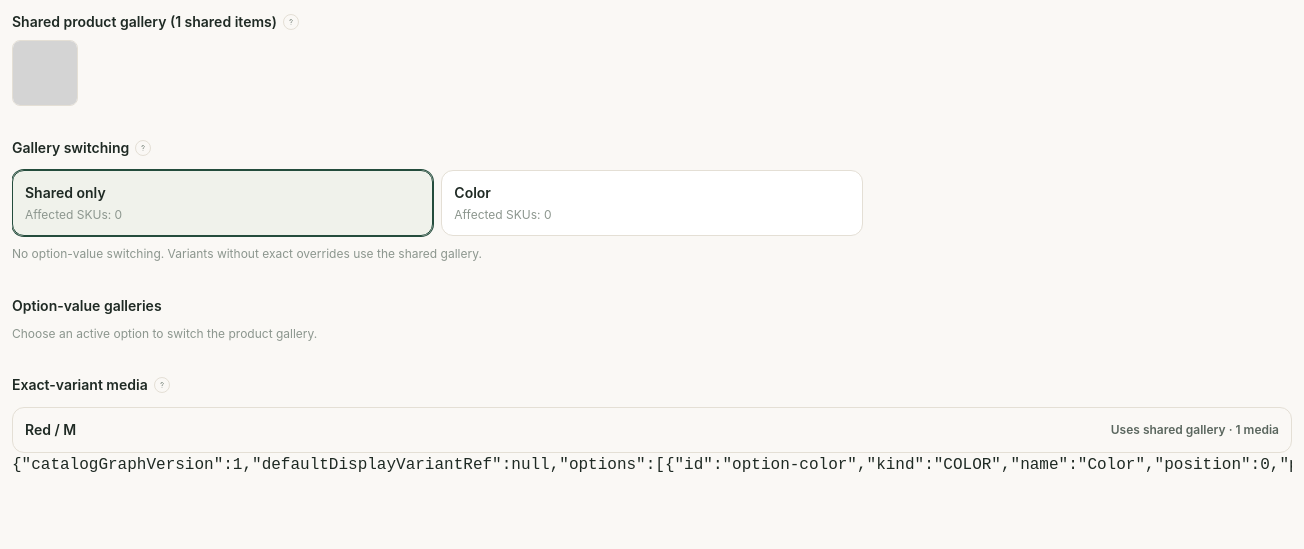
Test case: ProductMediaScopesEditor › explains that shared-only still leaves exact overrides in charge
Expected: the text "No option-value switching. Variants without exact overrides use the shared gallery." is shown, [12, 246, 482, 261]
Click the button "Color Affected SKUs: 0". click: (473, 192)
box: [441, 170, 863, 236]
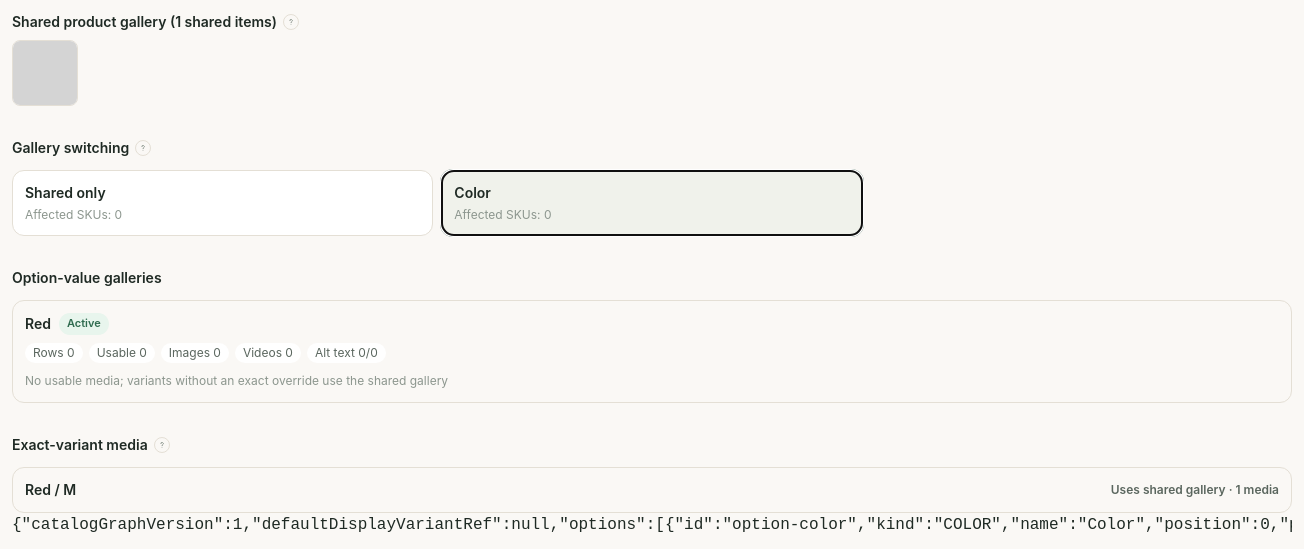
Expected: the text "No option-value switching. Variants without exact overrides use the shared gallery." is gone
